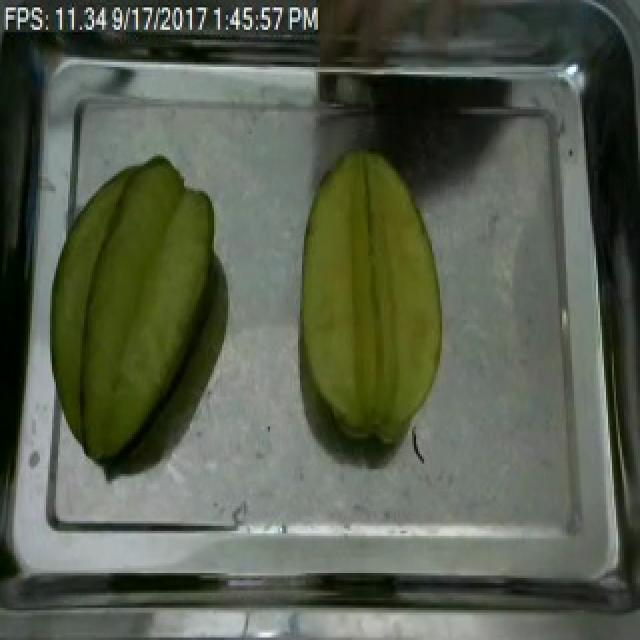fruit: (36, 146, 228, 474), (276, 139, 460, 464)
